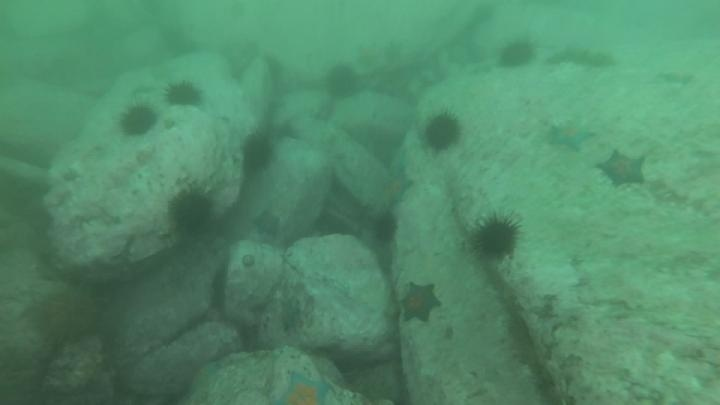echinus: (30, 284, 102, 346), (469, 211, 523, 262), (167, 185, 217, 237), (420, 110, 464, 154), (240, 132, 277, 175), (117, 102, 159, 139), (323, 63, 361, 101), (496, 38, 537, 72), (163, 78, 205, 111), (369, 211, 400, 246)
holothurian: (544, 41, 618, 72)
starfish: (594, 147, 649, 190), (271, 369, 334, 404), (396, 280, 443, 325), (183, 356, 225, 403), (376, 165, 415, 211), (546, 118, 597, 153), (352, 40, 386, 73), (250, 207, 284, 239), (656, 66, 697, 90), (267, 118, 301, 146)
